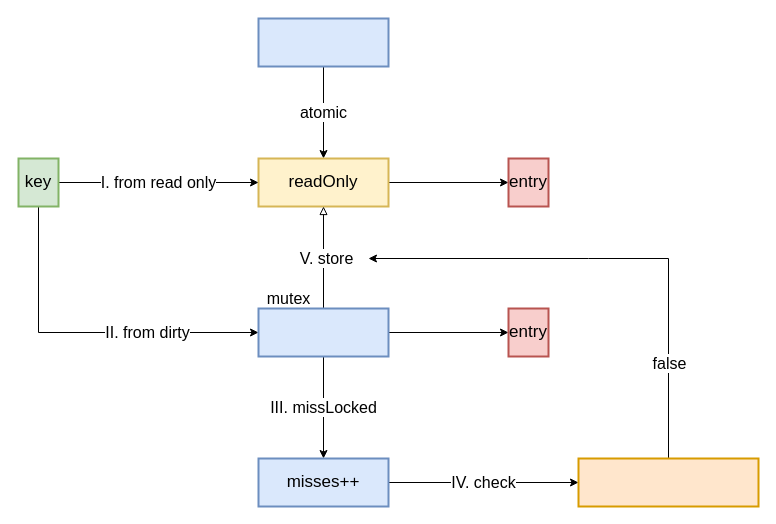
Some shapes in this 776 by 524 pixel diagram are drawn without their labels. The shapes that lost their labels are listed below. From the top down, each one's centre as x and y in pixels, then its label:
At point 323,42: "read".
At point 323,332: "dirty".
At point 668,482: "misses < len(dirty)".
